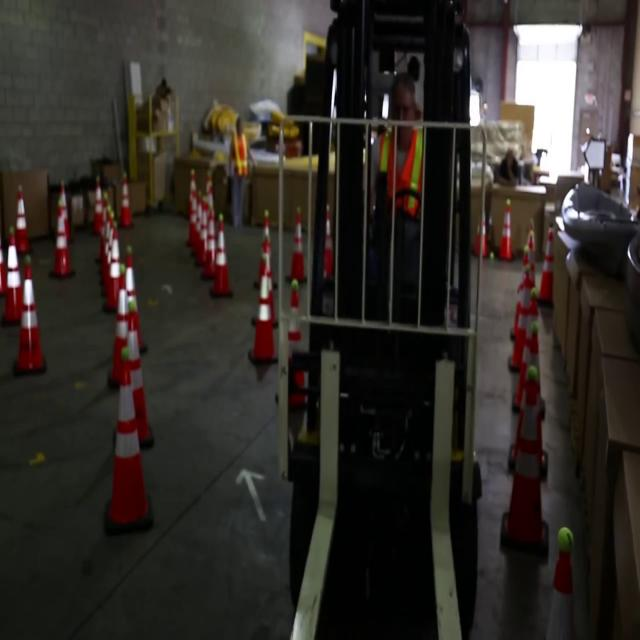Chariot elevateur: (274, 0, 493, 631)
